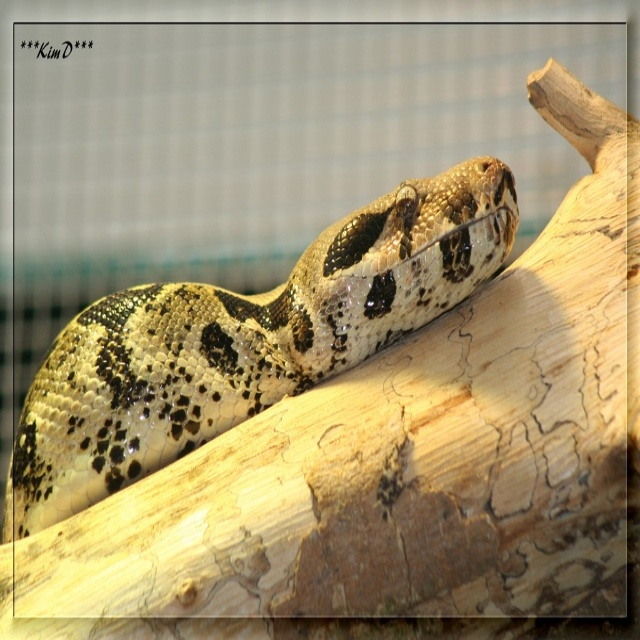Snake: (1, 151, 521, 538)
